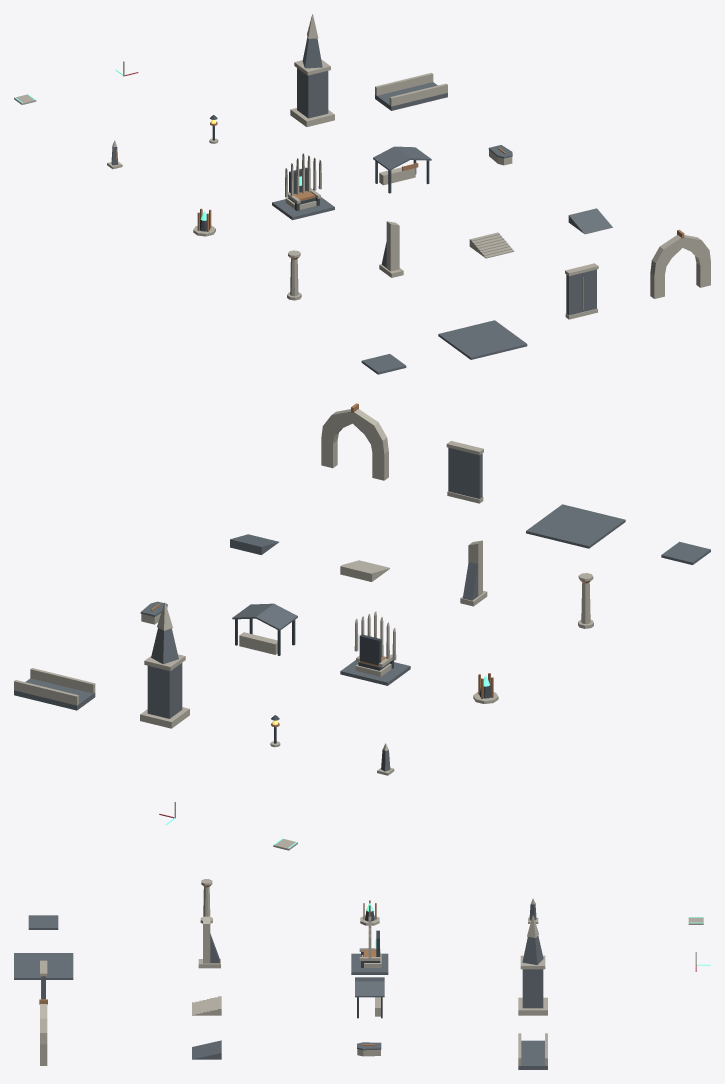
The model's file is ossuary_module_gallery.glb.
3 renders of one model, top to bottom at view 1: azimuth 30°, elevation 25°; view 2: azimuth 150°, elevation 25°; view 3: azimuth 270°, elevation 25°, orthographic. The views are drawn at different scales.
Parts seen in each view (by area): view 1: SM_AEON_GateSpire_14m, SM_AEON_BlackThrone, SM_AEON_Floor_8m, SM_AEON_PointedArch_8m, SM_AEON_Causeway_8m, SM_AEON_Wall_4m, SM_AEON_MarketStall_6m, SM_AEON_Buttress_7m, SM_AEON_Stairs_4m_Rise1m, SM_AEON_Ramp_4m_Rise1m, SM_AEON_Floor_4m; view 2: SM_AEON_GateSpire_14m, SM_AEON_Floor_8m, SM_AEON_BlackThrone, SM_AEON_PointedArch_8m, SM_AEON_Causeway_8m, SM_AEON_Wall_4m, SM_AEON_MarketStall_6m, SM_AEON_Buttress_7m, SM_AEON_Stairs_4m_Rise1m, SM_AEON_Floor_4m; view 3: SM_AEON_GateSpire_14m, SM_AEON_Floor_8m, SM_AEON_BlackThrone, SM_AEON_Causeway_8m, SM_AEON_MarketStall_6m, SM_AEON_Buttress_7m, SM_AEON_PointedArch_8m, SM_AEON_Stairs_4m_Rise1m, SM_AEON_Ramp_4m_Rise1m, SM_AEON_Floor_4m, SM_AEON_Sarcophagus, SM_AEON_RibColumn_6m.
Boxes of the visible parts, x1,y1,x2,y2 form: SM_AEON_GateSpire_14m: (290,14,334,126); SM_AEON_BlackThrone: (272,153,334,220); SM_AEON_Floor_8m: (438,320,527,359); SM_AEON_PointedArch_8m: (650,229,710,298); SM_AEON_Causeway_8m: (375,73,447,110); SM_AEON_Wall_4m: (565,263,598,319); SM_AEON_MarketStall_6m: (373,146,431,193); SM_AEON_Buttress_7m: (379,221,403,277); SM_AEON_Stairs_4m_Rise1m: (469,232,514,258); SM_AEON_Ramp_4m_Rise1m: (568,208,612,234); SM_AEON_Floor_4m: (361,354,406,374); SM_AEON_GateSpire_14m: (140,602,189,728); SM_AEON_Floor_8m: (526,504,625,548); SM_AEON_BlackThrone: (340,611,410,685); SM_AEON_PointedArch_8m: (321,403,388,480); SM_AEON_Causeway_8m: (14,668,95,710); SM_AEON_Wall_4m: (446,441,483,503); SM_AEON_MarketStall_6m: (232,603,297,655); SM_AEON_Buttress_7m: (460,540,487,606); SM_AEON_Stairs_4m_Rise1m: (340,560,389,581); SM_AEON_Floor_4m: (661,541,710,564); SM_AEON_GateSpire_14m: (518,915,547,1015); SM_AEON_Floor_8m: (14,953,73,979); SM_AEON_BlackThrone: (351,916,388,974); SM_AEON_Causeway_8m: (518,1033,547,1069); SM_AEON_MarketStall_6m: (355,977,384,1018); SM_AEON_Buttress_7m: (198,916,220,968); SM_AEON_PointedArch_8m: (39,999,47,1065); SM_AEON_Stairs_4m_Rise1m: (192,996,221,1015); SM_AEON_Ramp_4m_Rise1m: (192,1040,221,1059); SM_AEON_Floor_4m: (28,915,58,929); SM_AEON_Sarcophagus: (357,1042,381,1056); SM_AEON_RibColumn_6m: (200,879,212,923).
Bounding box in the file's own units: 48 × 14.6 × 94.
